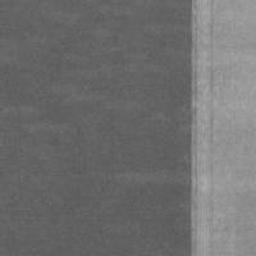Welding line: (188, 0, 200, 256)
